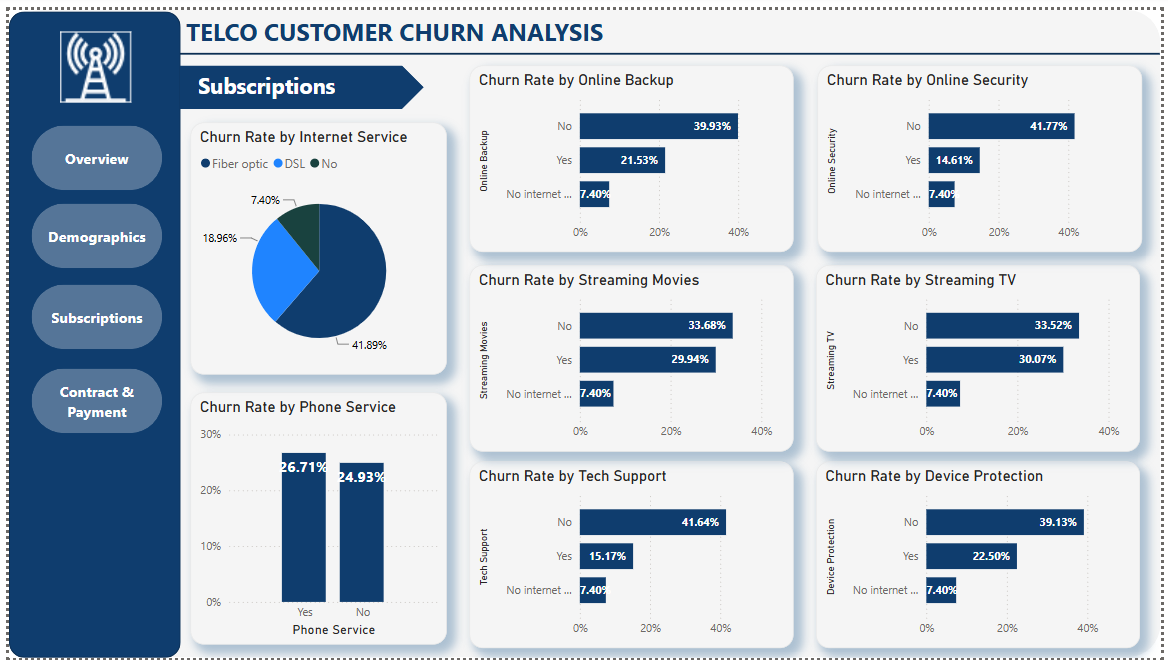

What the dashboard file says about the page in this screenshot:
{"tool":"powerbi","page":{"name":"Subscriptions","canvas":[1280,720],"ordinal":2},"visuals":[{"type":"shape","title":"Background","box":[0,0,1279.5,719.2],"z":0},{"type":"shape","title":"Nav Pane","box":[0,1.5,190.8,717.7],"z":1000},{"type":"shape","title":"Line","box":[190.8,34.8,1088.7,27.3],"z":2000},{"type":"textbox","box":[192.3,0,490.6,45.4],"z":3000},{"type":"actionButton","title":"Overview","box":[24.2,128.2,145.4,72],"z":4000},{"type":"actionButton","title":"Demographics button","box":[24.2,214.5,145.4,72],"z":5000},{"type":"actionButton","title":"Subscriptions button","box":[24.2,305.4,145.4,72],"z":6000},{"type":"actionButton","title":"Contract terms button","box":[24.2,398.2,145.4,72],"z":7000},{"type":"shape","title":"Overview shape","box":[190.8,62.1,271,48.5],"z":8000},{"type":"textbox","box":[204.6,61.4,216.3,48.2],"z":9000},{"type":"clusteredBarChart","fields":{"Category":["Telco_Churn.Online Backup"],"Y":["Telco_Churn.Churn Rate"]},"box":[511.8,62.1,360,207.4],"z":10000},{"type":"barChart","fields":{"Category":["Telco_Churn.Online Security"],"Y":["Telco_Churn.Churn Rate"]},"box":[897.9,62.1,360.4,207.4],"z":11000},{"type":"clusteredBarChart","fields":{"Category":["Telco_Churn.Streaming Movies"],"Y":["Telco_Churn.Churn Rate"]},"box":[511.8,283.2,360,207.4],"z":12000},{"type":"pieChart","title":"Churn Rate by Internet Service","fields":{"Category":["Telco_Churn.Internet Service"],"Y":["Telco_Churn.Churn Rate"]},"box":[201.4,125.3,284.7,280],"z":13000},{"type":"clusteredBarChart","fields":{"Category":["Telco_Churn.Streaming TV"],"Y":["Telco_Churn.Churn Rate"]},"box":[897,283.2,360,207.4],"z":14000},{"type":"columnChart","fields":{"Y":["Telco_Churn.Churn Rate"],"Category":["Telco_Churn.Phone Service"]},"box":[201.4,425.1,284.7,280.1],"z":15000},{"type":"clusteredBarChart","fields":{"Y":["Telco_Churn.Churn Rate"],"Category":["Telco_Churn.Tech Support"]},"box":[511.8,501.2,360,207.4],"z":16000},{"type":"clusteredBarChart","fields":{"Y":["Telco_Churn.Churn Rate"],"Category":["Telco_Churn.Device Protection"]},"box":[897,501.2,360,207.4],"z":17000},{"type":"image","box":[39.4,18.2,112.1,89.3],"z":18000}]}

Visuals, with their boxes in screenshot pixels (x1, y1, x2, y2), scaled from the page's 1280x720 canvas onto the 1168x661 screenshot:
"Background" shape: bbox=(0, 0, 1167, 660)
"Nav Pane" shape: bbox=(0, 1, 174, 660)
"Line" shape: bbox=(174, 32, 1167, 57)
textbox: bbox=(175, 0, 623, 42)
"Overview" actionButton: bbox=(22, 118, 155, 184)
"Demographics button" actionButton: bbox=(22, 197, 155, 263)
"Subscriptions button" actionButton: bbox=(22, 280, 155, 346)
"Contract terms button" actionButton: bbox=(22, 366, 155, 432)
"Overview shape" shape: bbox=(174, 57, 421, 102)
textbox: bbox=(187, 56, 384, 101)
clusteredBarChart - Telco_Churn.Online Backup x Telco_Churn.Churn Rate: bbox=(467, 57, 796, 247)
barChart - Telco_Churn.Online Security x Telco_Churn.Churn Rate: bbox=(819, 57, 1148, 247)
clusteredBarChart - Telco_Churn.Streaming Movies x Telco_Churn.Churn Rate: bbox=(467, 260, 796, 450)
"Churn Rate by Internet Service" pieChart: bbox=(184, 115, 444, 372)
clusteredBarChart - Telco_Churn.Streaming TV x Telco_Churn.Churn Rate: bbox=(819, 260, 1147, 450)
columnChart - Telco_Churn.Churn Rate x Telco_Churn.Phone Service: bbox=(184, 390, 444, 647)
clusteredBarChart - Telco_Churn.Churn Rate x Telco_Churn.Tech Support: bbox=(467, 460, 796, 651)
clusteredBarChart - Telco_Churn.Churn Rate x Telco_Churn.Device Protection: bbox=(819, 460, 1147, 651)
image: bbox=(36, 17, 138, 99)
